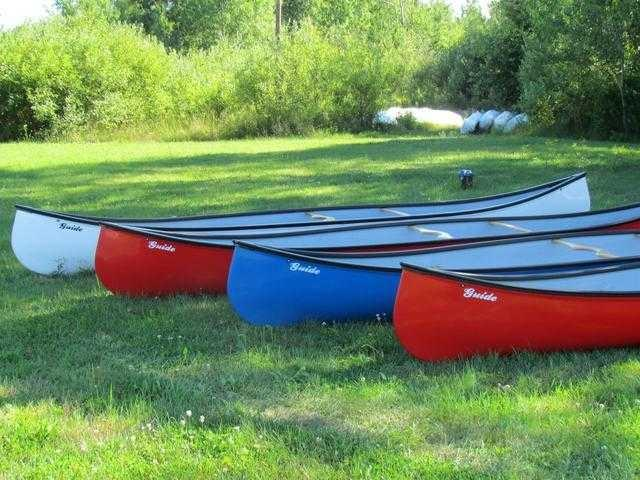kayak: (7, 174, 615, 297), (226, 200, 639, 327), (391, 232, 639, 363)
